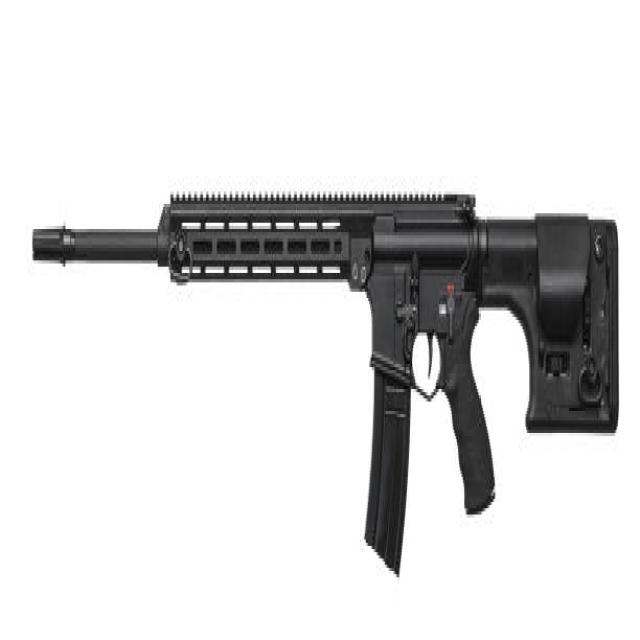rifle: (30, 164, 626, 603)
